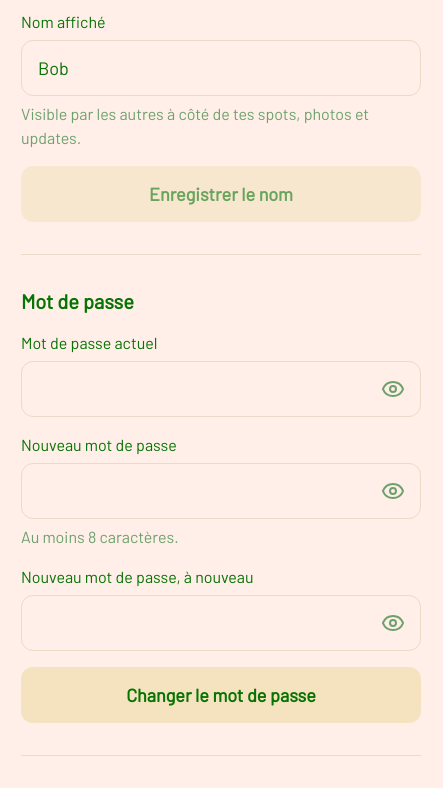
Scenario: AccountScreen › change le mot de passe, confirme et vide les champs
(page scrolled)
Step 1. Type "ancien-mdp" into the password field labelled "Mot de passe actuel" → {"x": 221, "y": 389}, box [21,361,421,417]
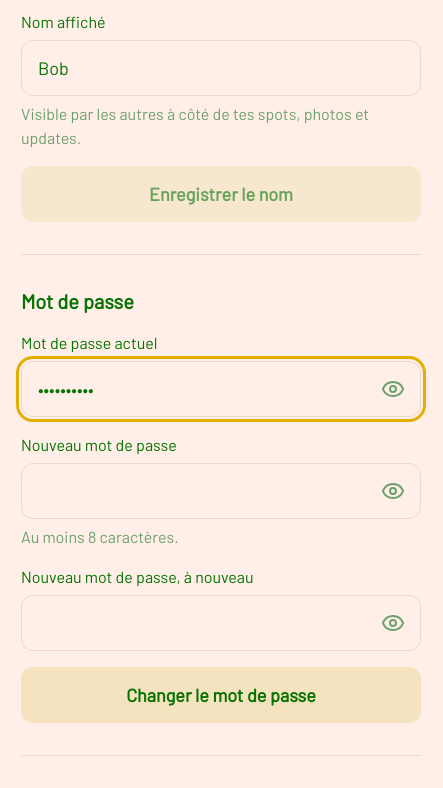
Step 2. Type "nouveau-mdp" into the password field labelled "Nouveau mot de passe" → {"x": 221, "y": 491}, box [21,463,421,519]
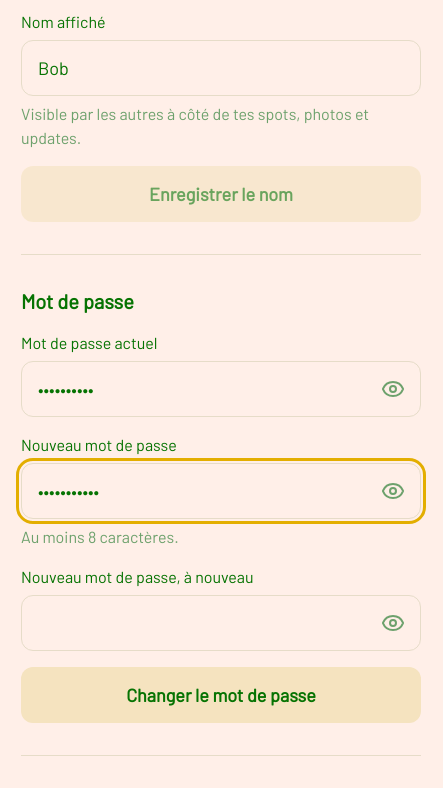
Step 3. Type "nouveau-mdp" into the password field labelled "Nouveau mot de passe, à nouveau" → {"x": 221, "y": 623}, box [21,595,421,651]
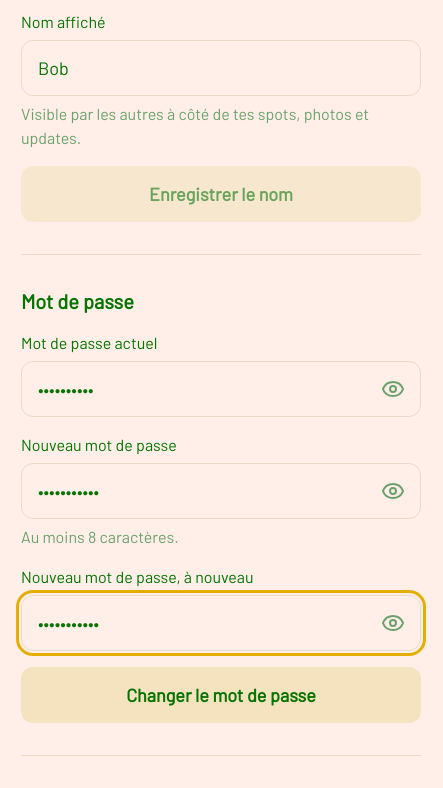
Step 4. Click the button "Changer le mot de passe" → {"x": 221, "y": 695}, box [21,667,421,723]
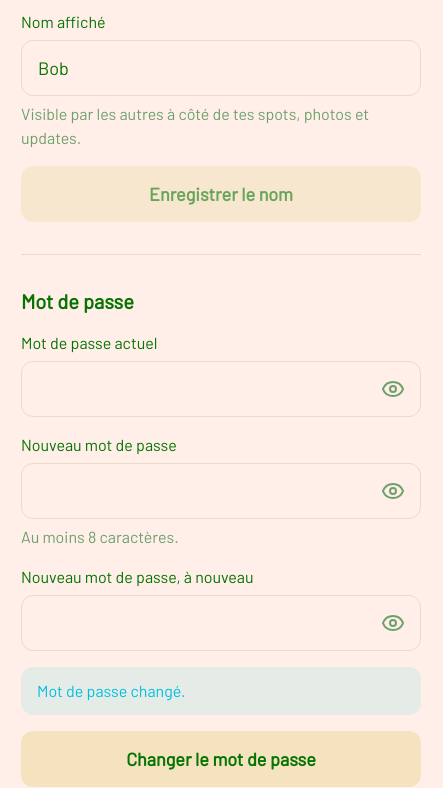
Check: the message reads "Mot de passe changé.", box [37,681,185,700]
Check: the password field labelled "Mot de passe actuel" is empty, box [21,361,421,417]
Check: the password field labelled "Nouveau mot de passe" is empty, box [21,463,421,519]
